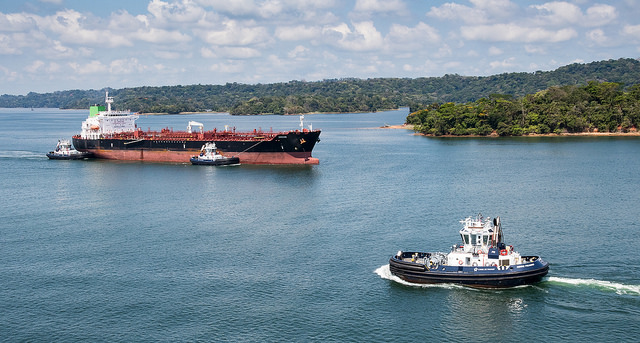tanker: (74, 89, 329, 166)
tug_boat: (381, 212, 550, 287), (185, 143, 239, 167), (45, 140, 83, 168)
